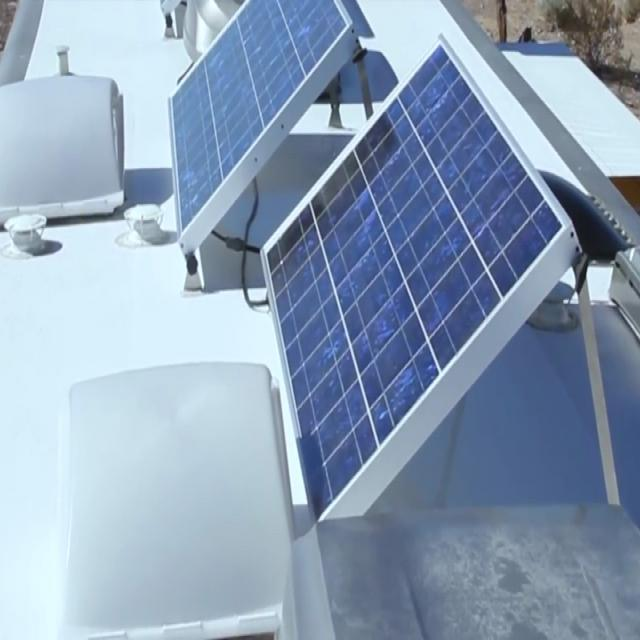Normal Solar Panel: (262, 42, 565, 524), (165, 0, 350, 242)
